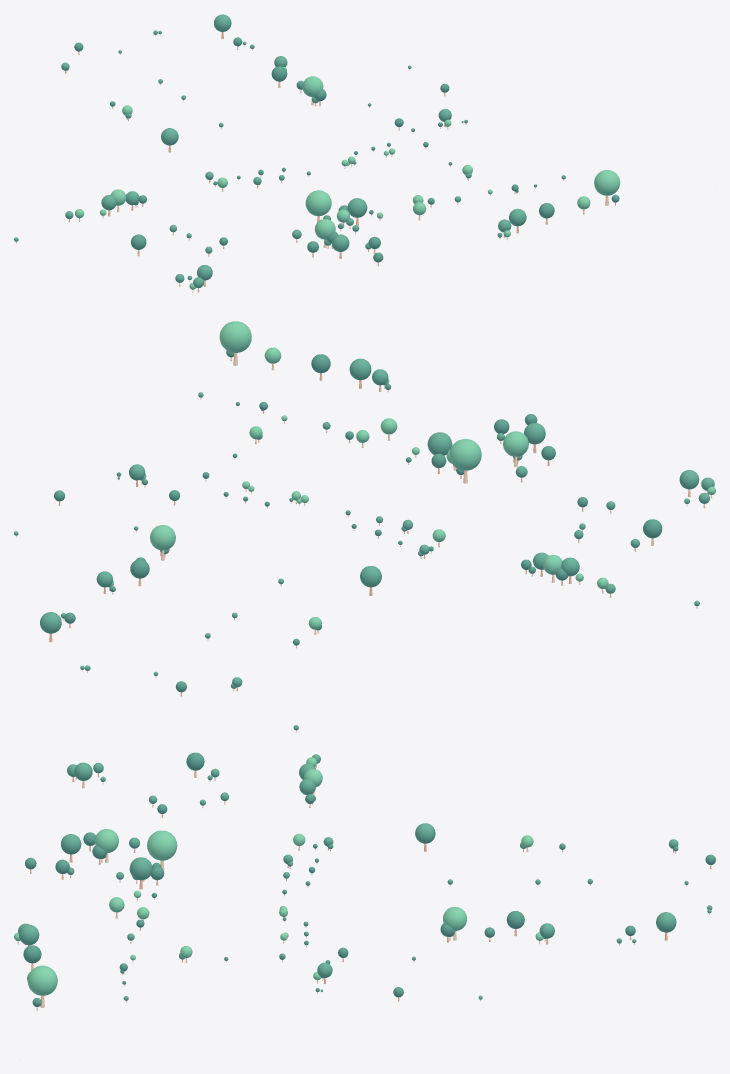
Rendered from plant.glb.
3 views of the same model, one above another, from view 1: azimuth 30°, elevation 25°; view 2: azimuth 150°, elevation 25°; view 3: azimuth 270°, elevation 25° (orthographic). The views are drawn at different scales.
Parts seen in each view (by area): view 1: plant-merge; view 2: plant-merge; view 3: plant-merge.
Part boxes in pixels (x1,y1,x2,y2): plant-merge: (14,14,620,292); plant-merge: (14,321,715,696); plant-merge: (14,725,715,1010).
Bounding box in the file's own units: 410 × 23.27 × 366.
Materials: 4 (4 with a texture image).
